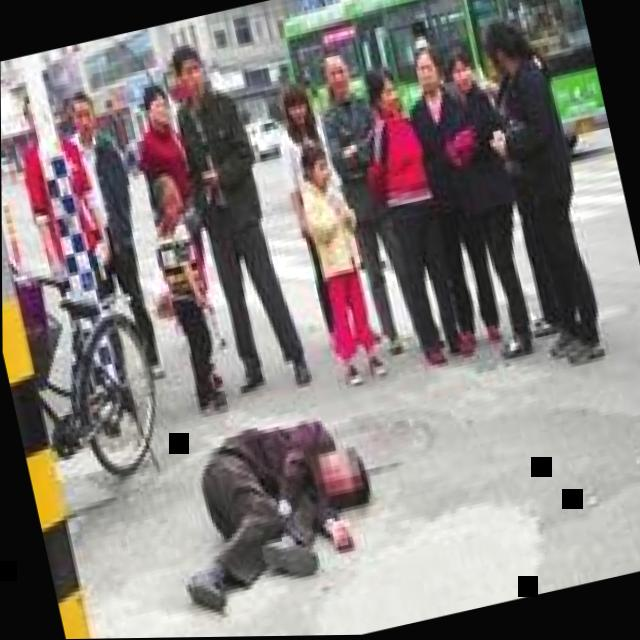Fall-Detected: (135, 373, 391, 617)
